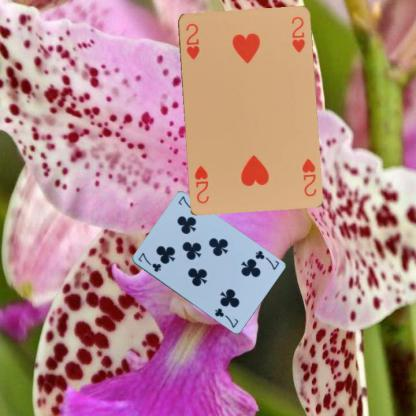2h: (299, 156, 318, 198), (183, 20, 201, 61)
7c: (253, 248, 280, 271), (136, 250, 162, 273)
